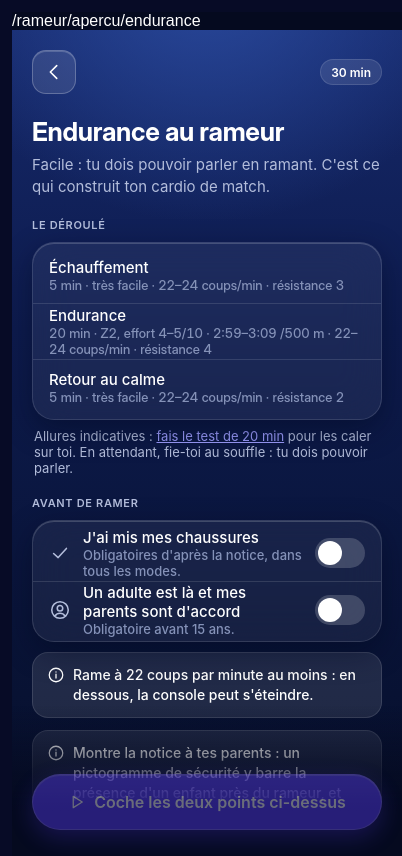
Scenario: aperçu › rappelle la technique et le minimum de 22 coups, et bloque sans chaussures ni adulte
Expected: the text "22 coups par minute au moins" is shown, [73,666,356,703]
Expected: the text "pictogramme de sécurité" is shown, [73,744,341,841]
Click the switch named "J'ai mis mes chaussures" at point(340, 553), box [315,538,365,568]
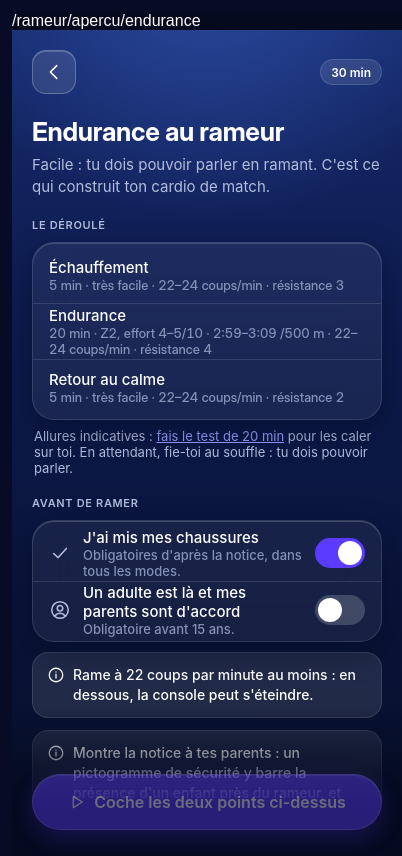
Expected: the button "Coche les deux points ci-dessus" is disabled, [32,774,382,830]
Click the switch named "Un adulte est là" at point(340, 610), box [315,594,365,624]
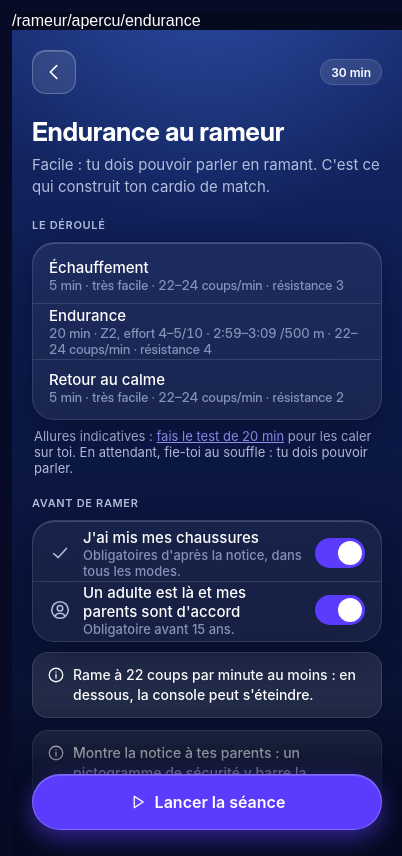
Expected: the button "Lancer la séance" is enabled, [32,774,382,830]
